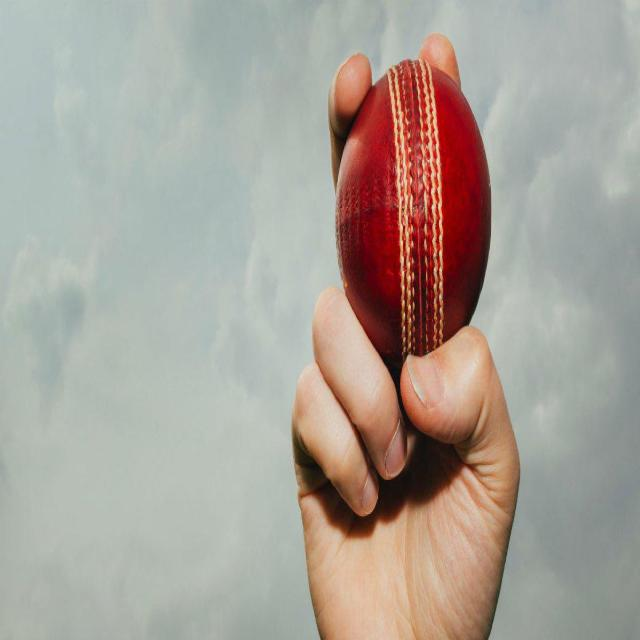ball: (336, 61, 491, 351)
